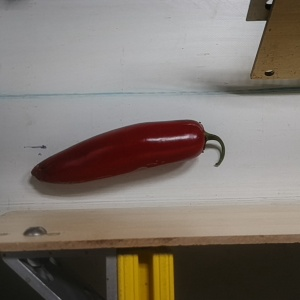Cut Point: (184, 118, 216, 160)
